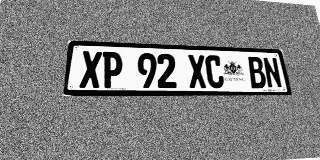2: (157, 53, 177, 88)
9: (138, 53, 157, 88)
B: (247, 56, 267, 88)
C: (205, 55, 225, 88)
N: (262, 57, 283, 88)
P: (101, 52, 122, 88)
X: (79, 51, 102, 88), (187, 54, 207, 88)
